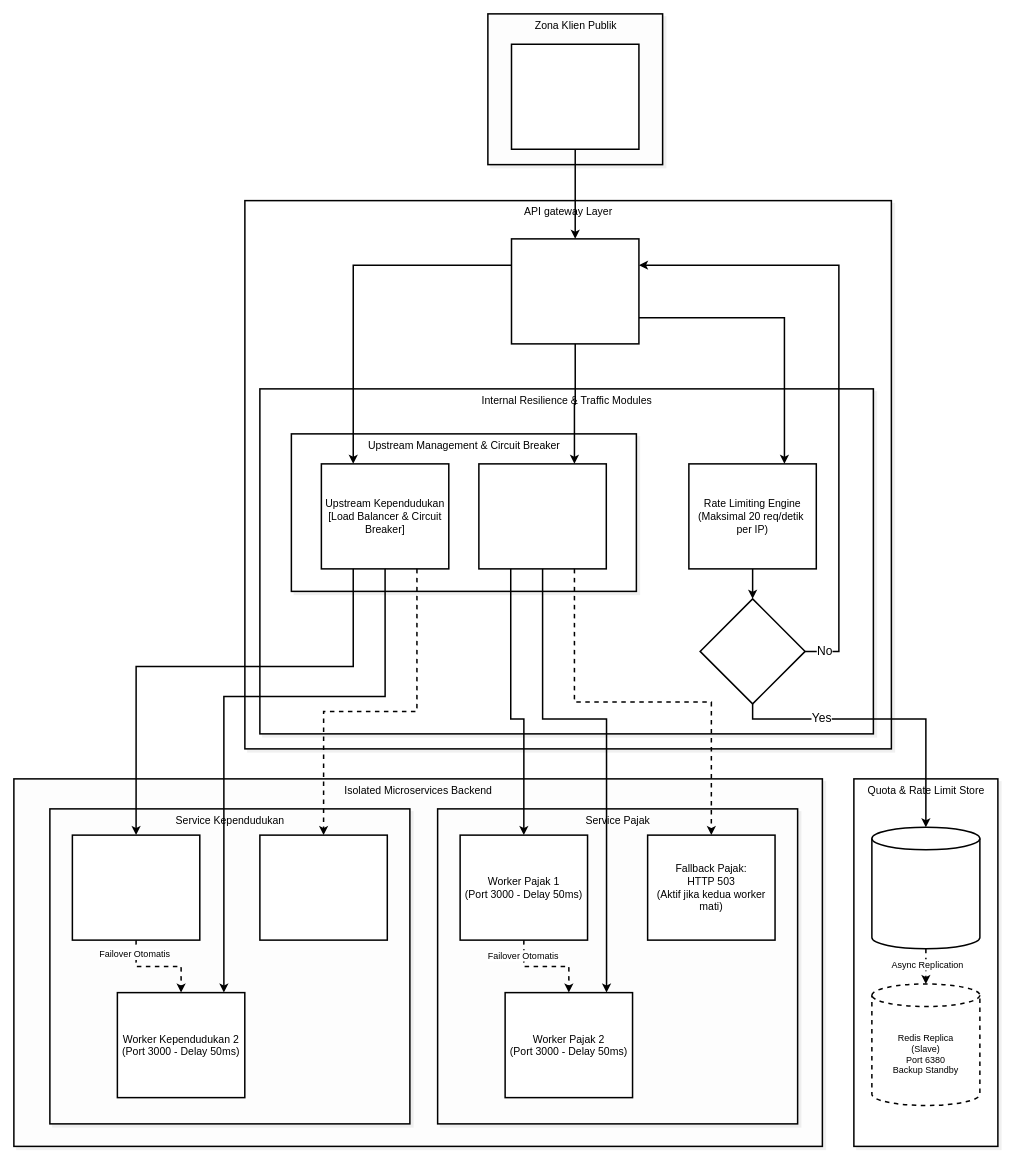
The diagram is 1014 pixels wide and 1163 high, and some of its shapes have lost their labels. Each missing label, with the centre of its shape:
"1000 Virtual Users (K6/Locust/Web Portal)" goes at (x=574, y=96).
"Fail-Open Guard: Redis Terhubung?" goes at (x=752, y=651).
"Fallback Kependudukan: HTTP 503 (Aktif jika kedua worker mati)" goes at (x=323, y=887).
"HTTP Ingress & Reverse Proxy Router (Kong Core Engine)" goes at (x=574, y=291).
"Redis Primary (Master) Port 6379 In-Memory Quota Store" goes at (x=925, y=887).
"Upstream Pajak [Load Balancer & Circuit Breaker]" goes at (x=542, y=516).
"Worker Kependudukan 1 (Port 3000 - Delay 50ms)" goes at (x=135, y=887).
